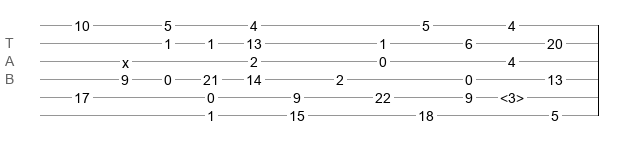0: (164, 72, 172, 82), (207, 90, 215, 100), (379, 54, 387, 64), (465, 72, 473, 82)
1: (164, 36, 172, 46), (207, 108, 215, 118), (207, 36, 215, 46), (379, 36, 387, 46)
10: (74, 18, 90, 28)
13: (246, 36, 262, 46), (547, 72, 563, 82)
14: (246, 72, 262, 82)
15: (289, 108, 305, 118)
17: (74, 90, 90, 100)
18: (418, 108, 434, 118)
2: (250, 54, 258, 64), (336, 72, 344, 82)
20: (547, 36, 563, 46)
21: (203, 72, 219, 82)
22: (375, 90, 391, 100)
4: (250, 18, 258, 28), (508, 18, 516, 28), (508, 54, 516, 64)
5: (164, 18, 172, 28), (422, 18, 430, 28), (551, 108, 559, 118)
6: (465, 36, 473, 46)
9: (121, 72, 129, 82), (293, 90, 301, 100), (465, 90, 473, 100)
harmonic: (500, 90, 524, 100)
x: (122, 55, 129, 63)
